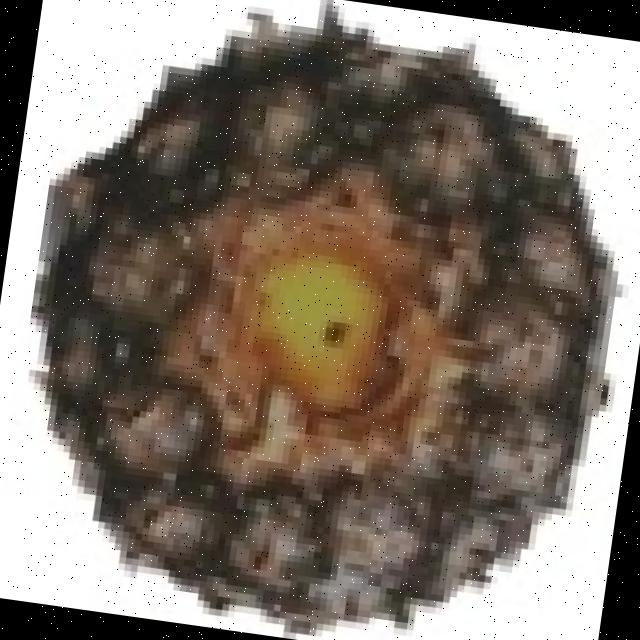pineapple: (48, 45, 618, 634)
